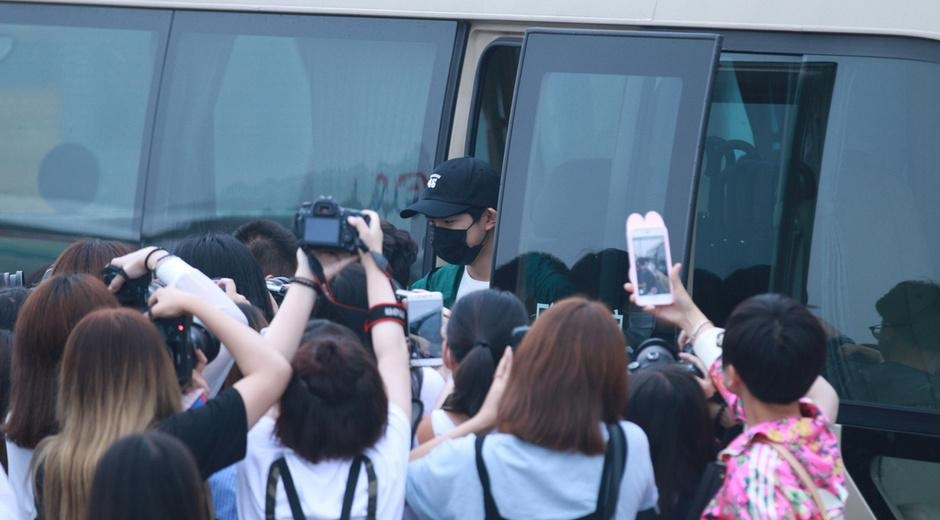face_mask: (429, 205, 482, 266)
